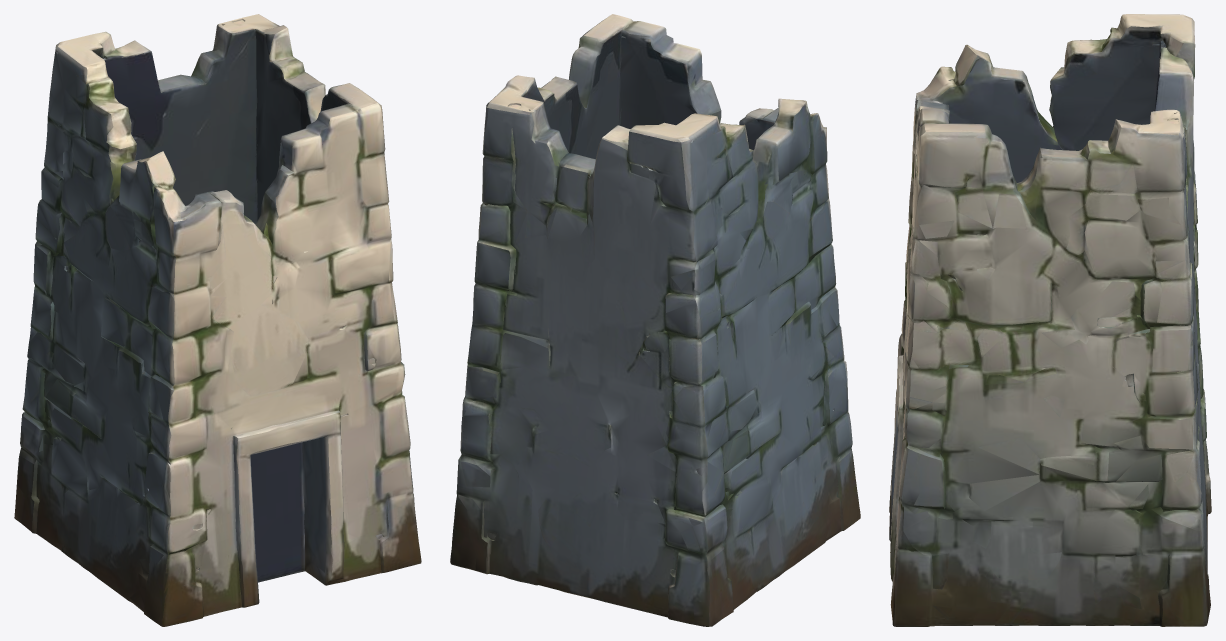
File: watchtower_ruin.glb
3 views of the same model, side by side, from view 1: azimuth 30°, elevation 25°; view 2: azimuth 150°, elevation 25°; view 3: azimuth 270°, elevation 25° (orthographic). The views are drawn at different scales.
Visible parts, largest first — view 1: geometry_0; view 2: geometry_0; view 3: geometry_0.
Boxes of the visible parts, box(x1,y1,x2,y2) form: geometry_0: box(14, 14, 421, 626); geometry_0: box(450, 14, 860, 626); geometry_0: box(889, 14, 1211, 626).
Size of the model in its own units: 3.52 by 6 by 3.54.
1 material, 1 textured.
